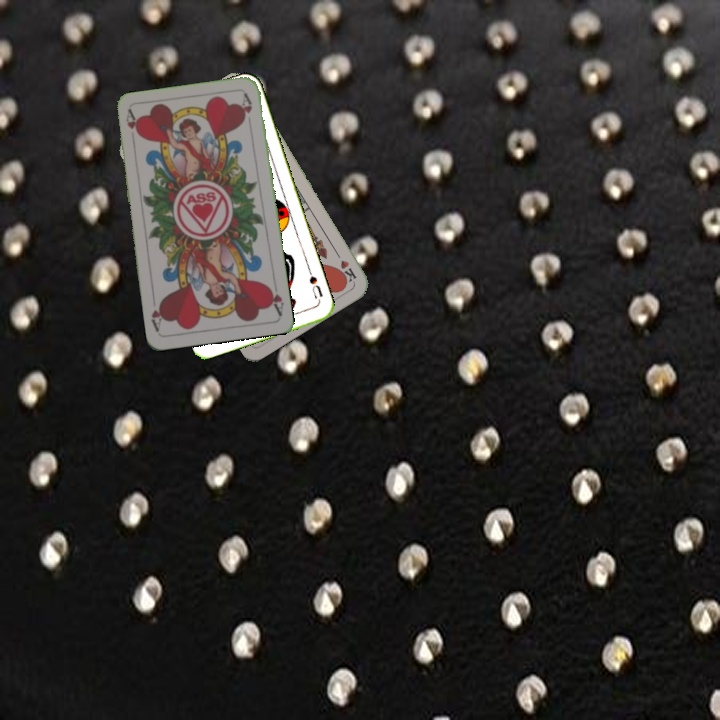HA: (264, 277, 286, 317), (122, 107, 140, 148)
HK: (331, 247, 359, 285)
SU: (304, 265, 325, 305)
